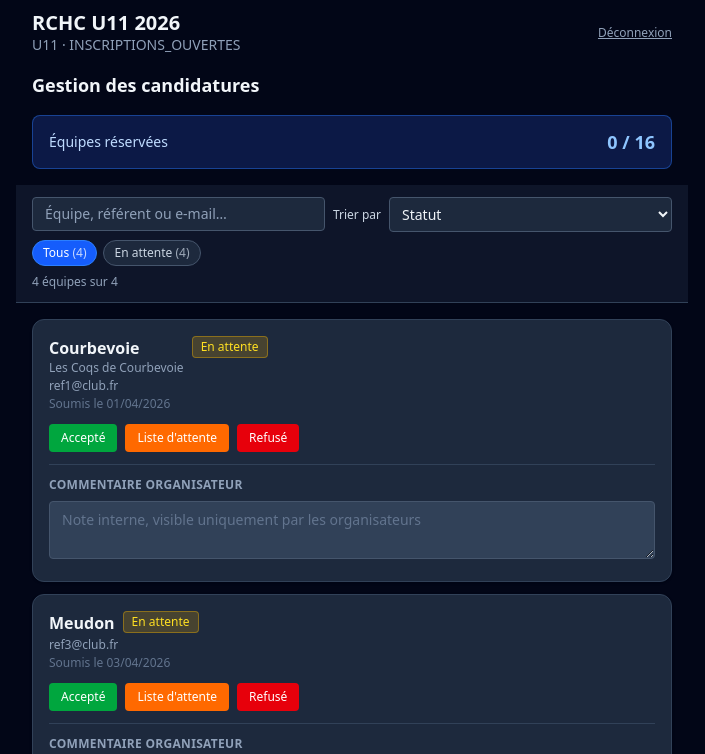
Test: Liste des candidatures de l'organisateur — recherche par nom complet (CA7) › « coqs » fait apparaître la candidature de Courbevoie et elle seule
The width and height of the screenshot is (705, 754).
Expected: the text "4 équipes sur 4" is shown, [32,274,118,290]
In the search field: [178, 214] box [32,197,325,231], type "coqs"
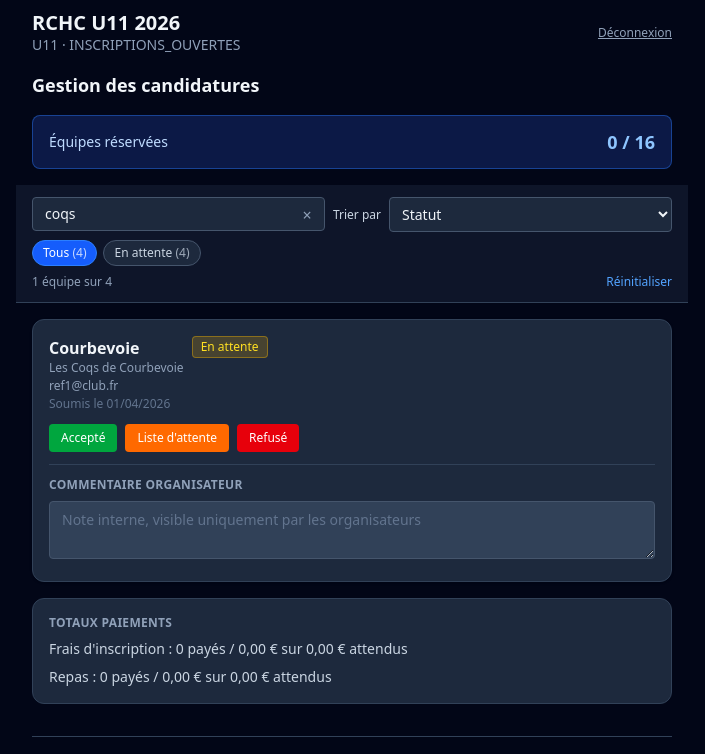
Now the text "1 équipe sur 4" is shown, box [32,274,112,290]
